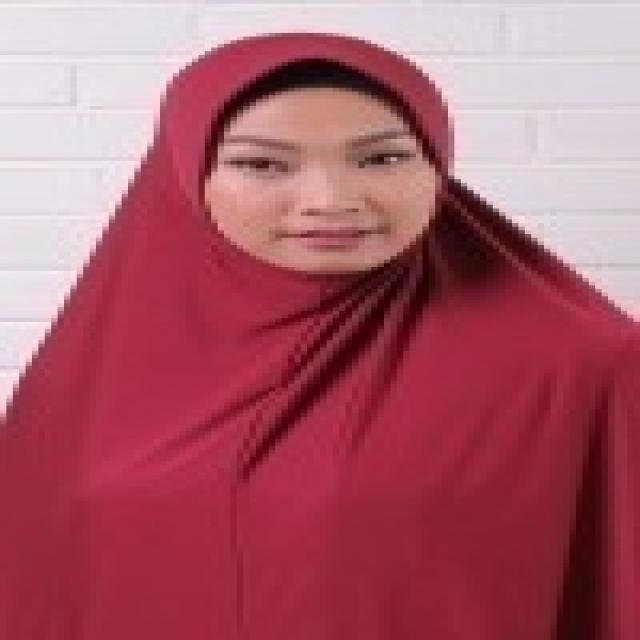head: (156, 31, 457, 278)
